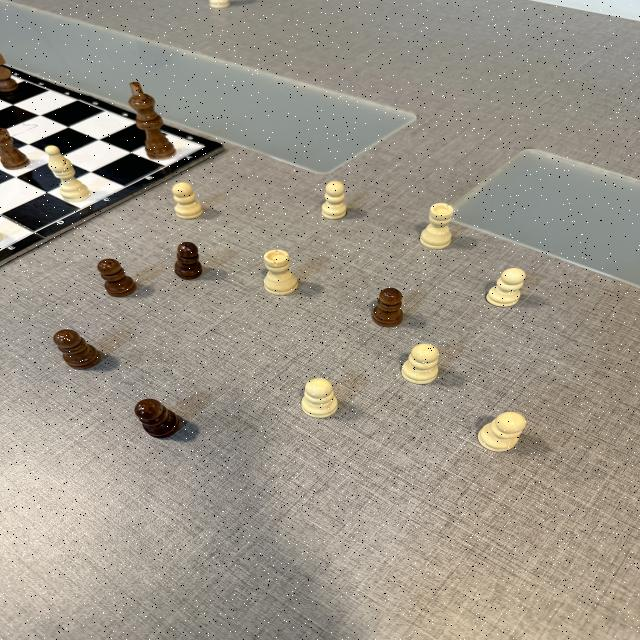Black-King: (130, 82, 174, 158)
Black-Knight: (0, 53, 18, 91)
Black-Pawn: (54, 329, 100, 369), (135, 398, 179, 438), (98, 258, 136, 298), (0, 128, 30, 169), (373, 288, 403, 327), (174, 242, 203, 279)
White-Bishop: (46, 146, 90, 202)
White-Pawn: (478, 412, 526, 452), (486, 268, 526, 307), (401, 344, 438, 384), (301, 378, 338, 418), (172, 183, 204, 219), (322, 182, 348, 220)
White-Rook: (420, 202, 453, 249), (264, 250, 298, 294)
